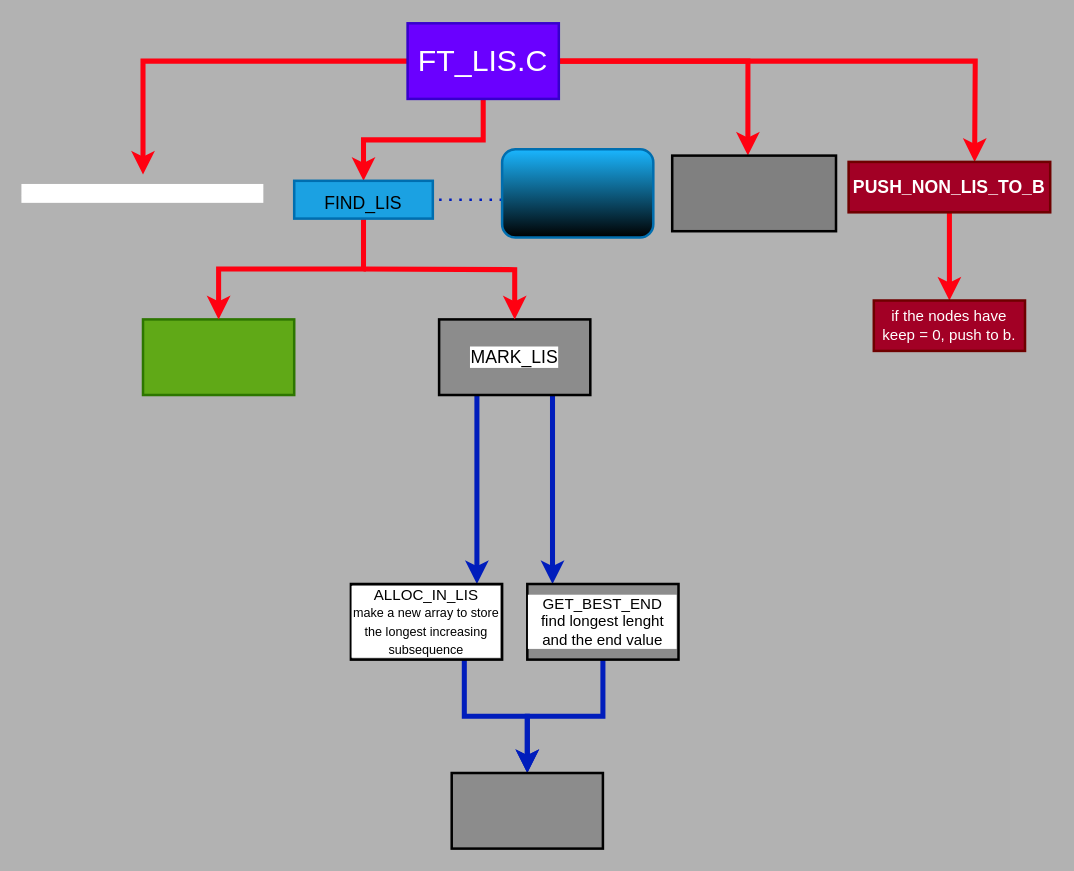
Image size: 1074x871. Some labels were removed from this diagram. Each missing label, with the centre of its shape:
initialise the array of ints, find the best end and mark the indices of the LIS.: the point at 527,810
LIS_DP the actual largest increasing subsequence algo: the point at 218,357
MAKES: lenght and prev arrays to be used in other functions: the point at 577,192
MARK_LIS_NODES actually mark the elements of the LIS in the nodes: the point at 753,193
